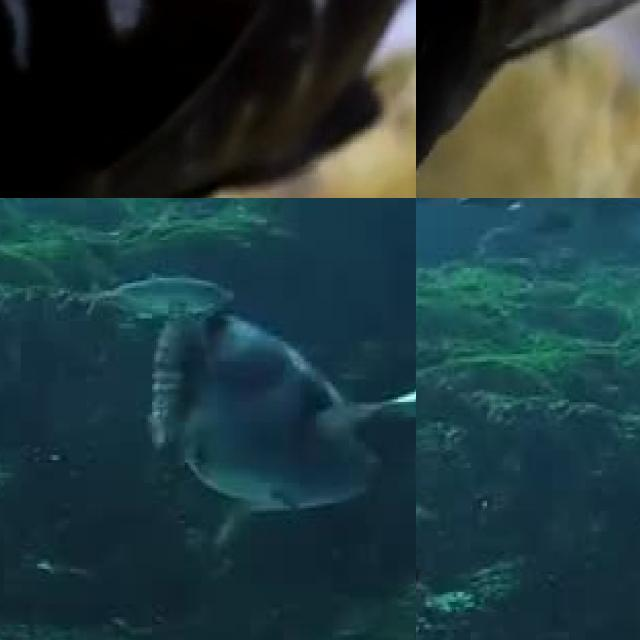fish: (0, 0, 416, 198), (416, 0, 640, 198)
